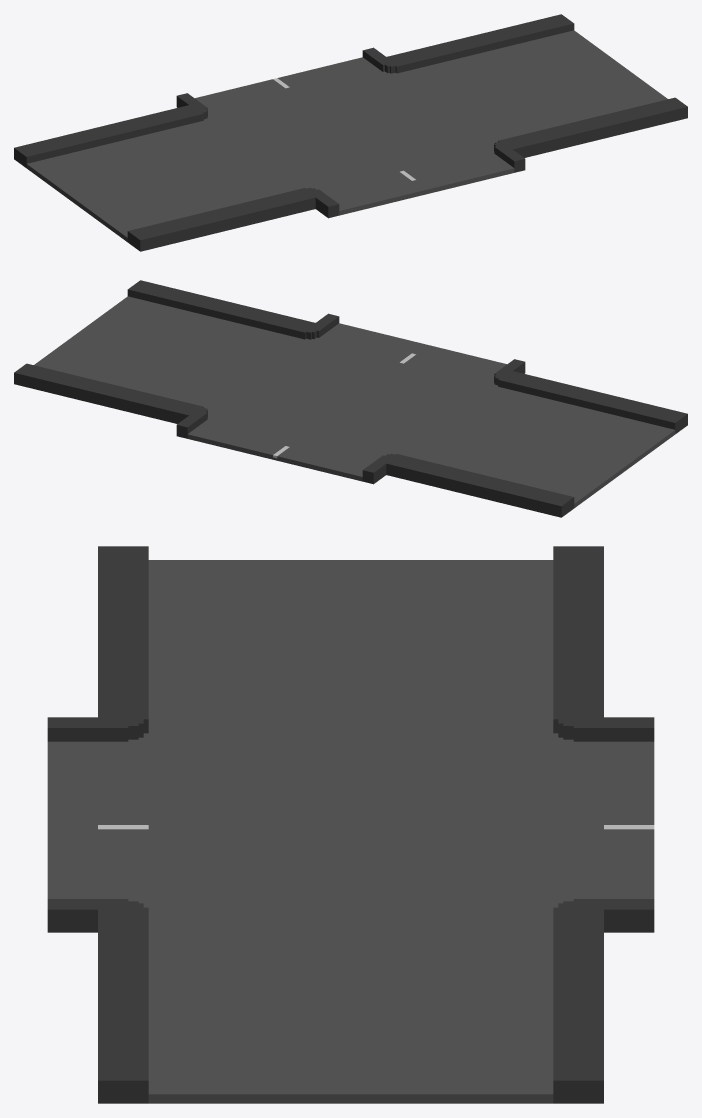
File: TunnelRoad2.obj
The picture shows the model from 3 angles, top to bottom: view 1: azimuth 30°, elevation 25°; view 2: azimuth 150°, elevation 25°; view 3: azimuth 270°, elevation 25°; orthographic projection. The views are drawn at different scales.
Size of the model in its own units: 25 by 0.5 by 12.
Materials: 1 (1 with a texture image).
